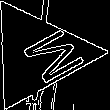M_SW: (0, 21, 76, 87)
